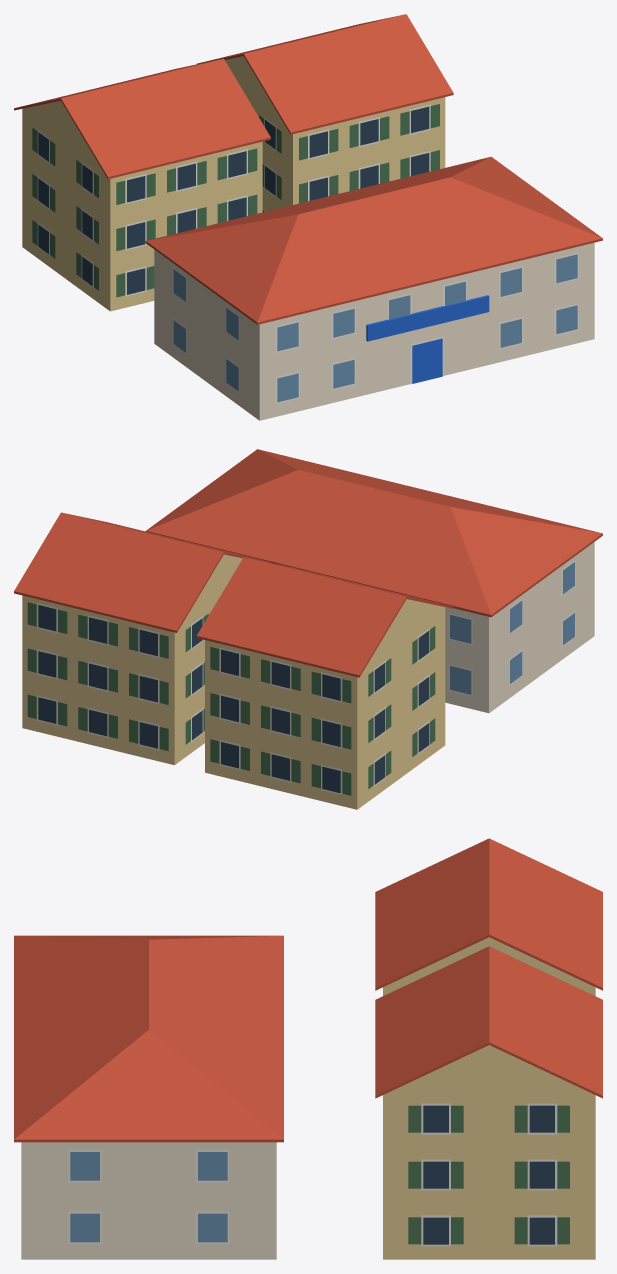
Rendered from gendarmerie.glb.
3 renders of one model, top to bottom at view 1: azimuth 30°, elevation 25°; view 2: azimuth 150°, elevation 25°; view 3: azimuth 270°, elevation 25°, orthographic. The views are drawn at different scales.
Visible parts, largest first — view 1: gendarmerie; view 2: gendarmerie; view 3: gendarmerie.
Part boxes in pixels (x1,y1,x2,y2): gendarmerie: (14, 14, 602, 420); gendarmerie: (14, 449, 602, 809); gendarmerie: (14, 838, 602, 1259).
Size of the model in its own units: 22.7 by 11.44 by 27.7.
1 material, 1 textured.
